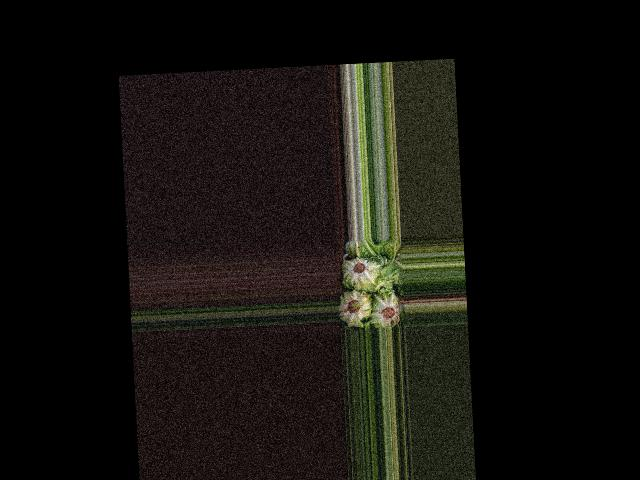lettuce: (369, 292, 401, 328)
